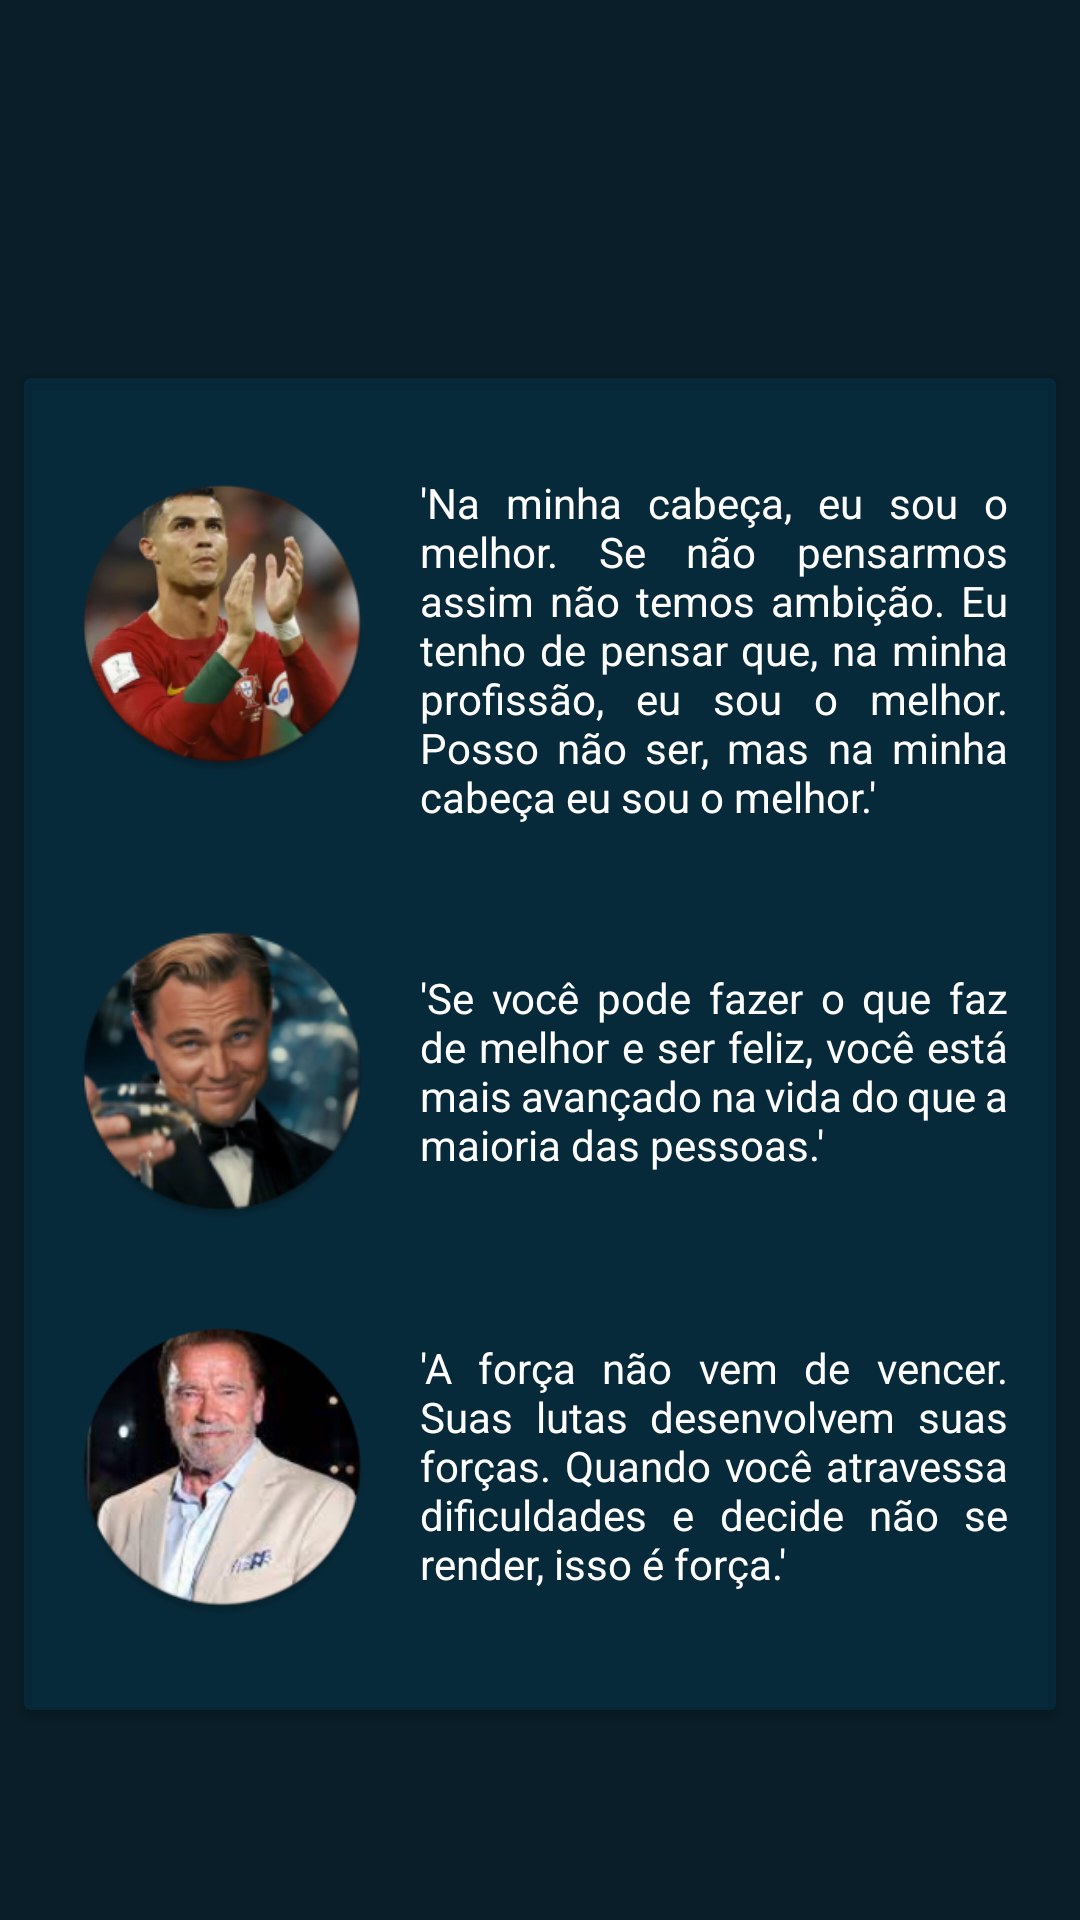

Icons on this 1080x1920 Android screen, each with the point to tap as point (x, y):
round: point (222, 624)
